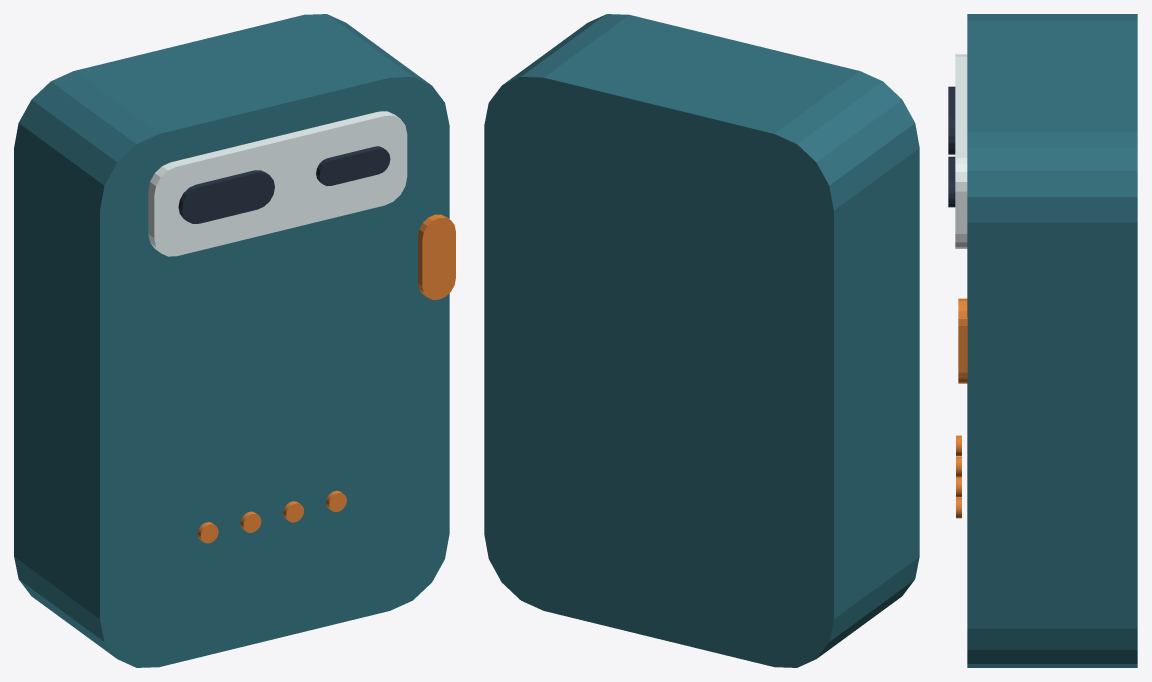
Rendered from powerbank.glb.
The picture shows the model from 3 angles, left to right: view 1: azimuth 30°, elevation 25°; view 2: azimuth 150°, elevation 25°; view 3: azimuth 270°, elevation 25°; orthographic projection.
Visible parts, largest first — view 1: body, port panel, port usb a, power key, port usb c; view 2: body; view 3: body, port panel, power key, port usb a, port usb c.
Boxes of the visible parts, <box> form: body: <box>14,14,449,667</box>; port panel: <box>148,111,407,256</box>; port usb a: <box>178,170,274,223</box>; power key: <box>418,214,455,299</box>; port usb c: <box>316,146,390,186</box>; body: <box>484,14,919,667</box>; body: <box>967,14,1137,667</box>; port panel: <box>955,54,967,248</box>; power key: <box>958,298,967,383</box>; port usb a: <box>948,86,955,154</box>; port usb c: <box>948,156,955,207</box>.
Size of the model in its own units: 0.945 by 1.37 by 0.4445.
